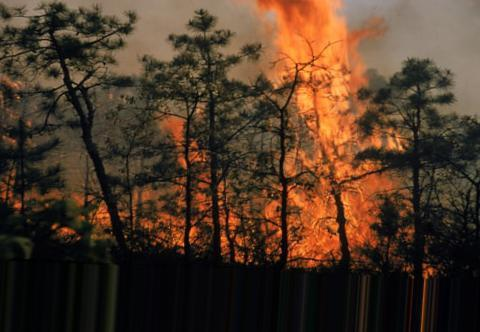fire: (255, 1, 417, 265), (136, 114, 246, 253)
